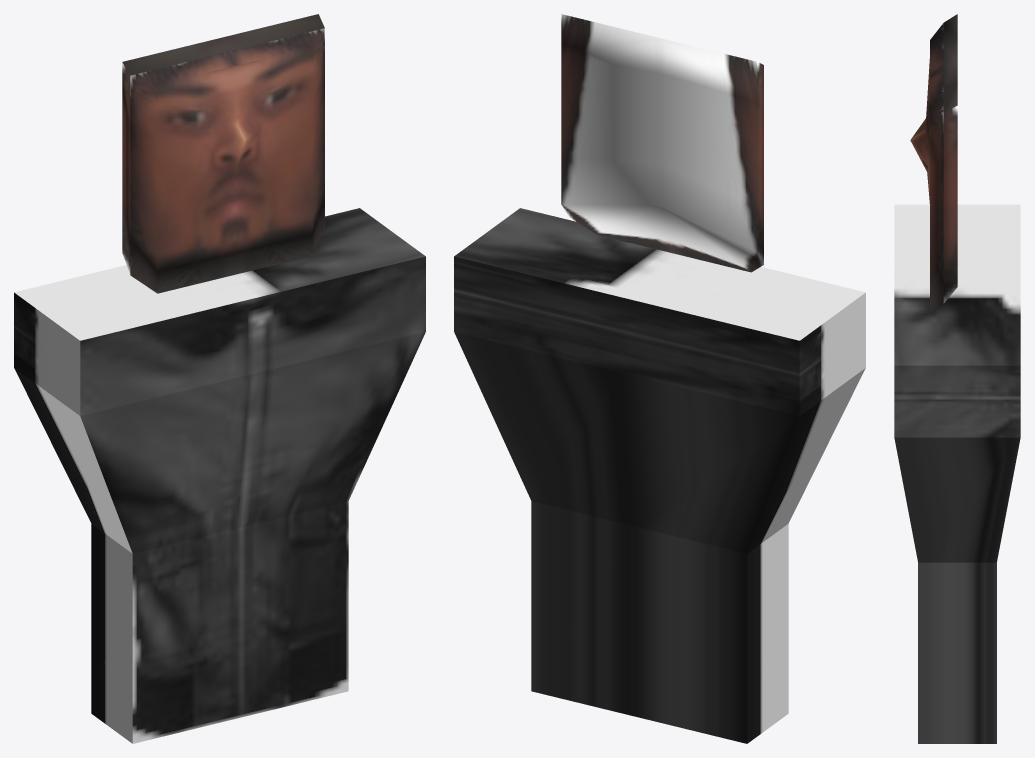
File: DonChar.fbx
The picture shows the model from 3 angles, left to right: view 1: azimuth 30°, elevation 25°; view 2: azimuth 150°, elevation 25°; view 3: azimuth 270°, elevation 25°; orthographic projection. The views are drawn at different scales.
Visible parts, largest first — view 1: Cube.004, Cube.003; view 2: Cube.004, Cube.003; view 3: Cube.004, Cube.003.
Boxes of the visible parts, x1=… form: Cube.004: x1=14, y1=208, x2=425, y2=743; Cube.003: x1=122, y1=14, x2=324, y2=293; Cube.004: x1=454, y1=208, x2=865, y2=743; Cube.003: x1=561, y1=14, x2=763, y2=272; Cube.004: x1=894, y1=204, x2=1020, y2=743; Cube.003: x1=910, y1=14, x2=957, y2=311.
Size of the model in its own units: 603 by 1108 by 200.
